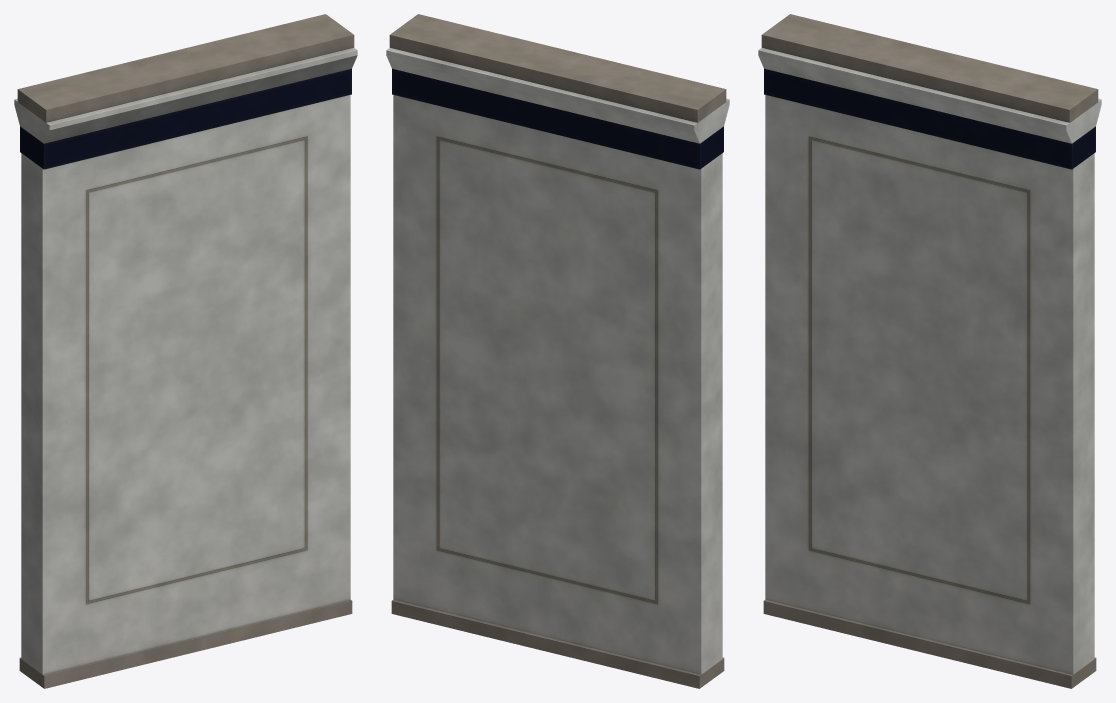
The model's file is charter_wall_upper.glb.
3 renders of one model, left to right at view 1: azimuth 30°, elevation 25°; view 2: azimuth 150°, elevation 25°; view 3: azimuth 330°, elevation 25°, orthographic.
Visible parts, largest first — view 1: charter_wall_upper; view 2: charter_wall_upper; view 3: charter_wall_upper.
Part boxes in pixels (x1=…): charter_wall_upper: x1=14, y1=14, x2=357, y2=688; charter_wall_upper: x1=386, y1=14, x2=729, y2=688; charter_wall_upper: x1=758, y1=14, x2=1101, y2=688.
Bounding box in the file's own units: 2 × 3.6 × 0.4.
1 material, 1 textured.
